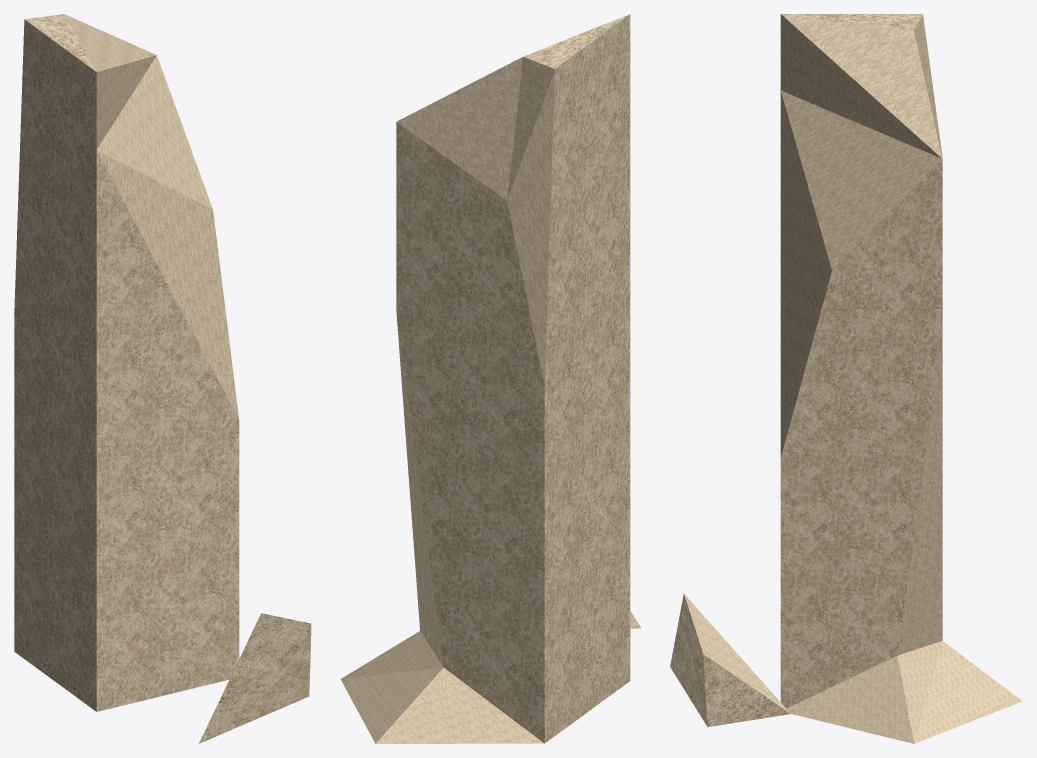
Rendered from thm_tato_imprv_pillar_ruin_s01_l2.fbx.
3 renders of one model, left to right at view 1: azimuth 30°, elevation 25°; view 2: azimuth 150°, elevation 25°; view 3: azimuth 270°, elevation 25°, orthographic. The views are drawn at different scales.
Visible parts, largest first — view 1: mesh_node; view 2: mesh_node; view 3: mesh_node.
Boxes of the visible parts, x1,y1,x2,y2 form: mesh_node: [14, 14, 311, 743]; mesh_node: [340, 14, 640, 743]; mesh_node: [670, 14, 1022, 743].
Size of the model in its own units: 1.48 by 4.3 by 2.18.
